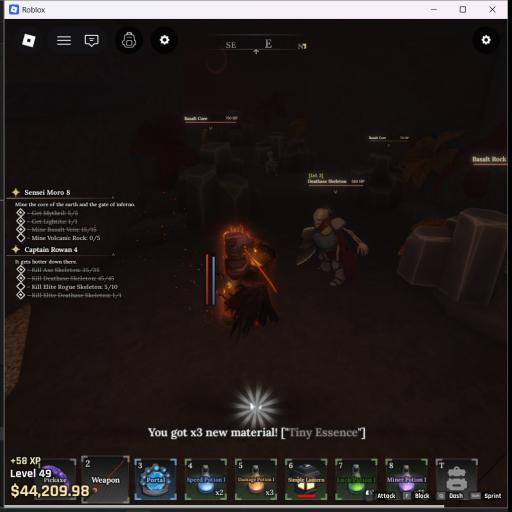player: (218, 231, 279, 339)
rock: (397, 209, 505, 303), (185, 142, 249, 228), (349, 153, 405, 210), (254, 135, 284, 165)
